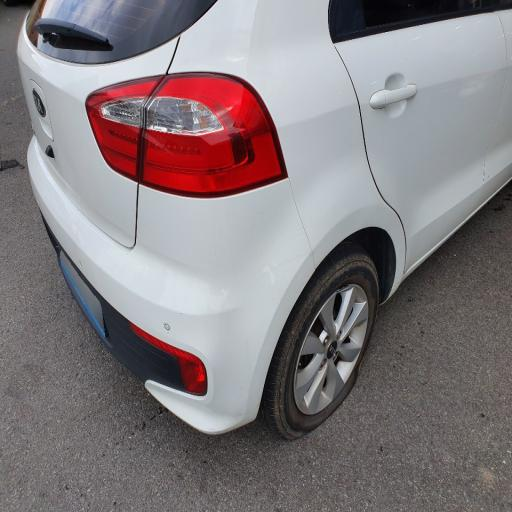dent: (115, 55, 163, 192)
scratch: (328, 114, 370, 167), (151, 295, 188, 341)
